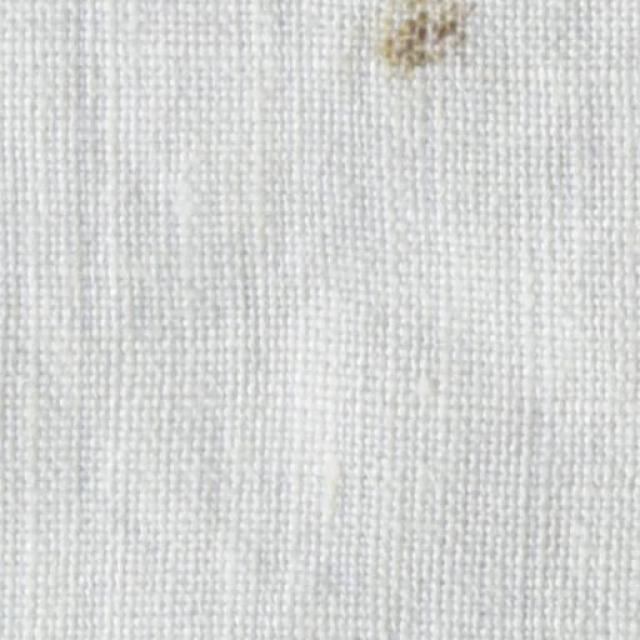Stain: (375, 4, 499, 72)
